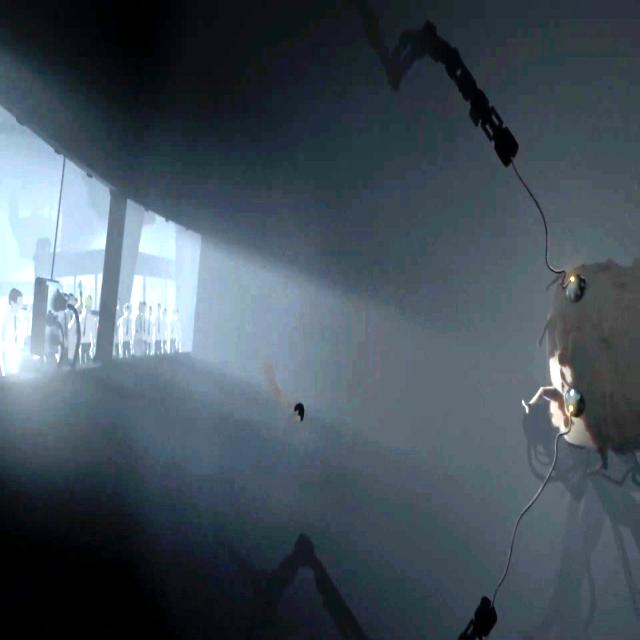blob: (521, 259, 640, 479)
boy: (262, 360, 305, 423)
human: (1, 288, 23, 375), (80, 298, 92, 362), (135, 302, 145, 354), (121, 304, 131, 356), (169, 308, 178, 351), (154, 301, 161, 356), (161, 302, 168, 353), (147, 305, 153, 353), (65, 293, 74, 325)
interactible: (30, 273, 80, 377), (564, 379, 586, 419), (562, 270, 586, 304)
mechanism: (355, 0, 518, 171), (238, 540, 499, 640)
